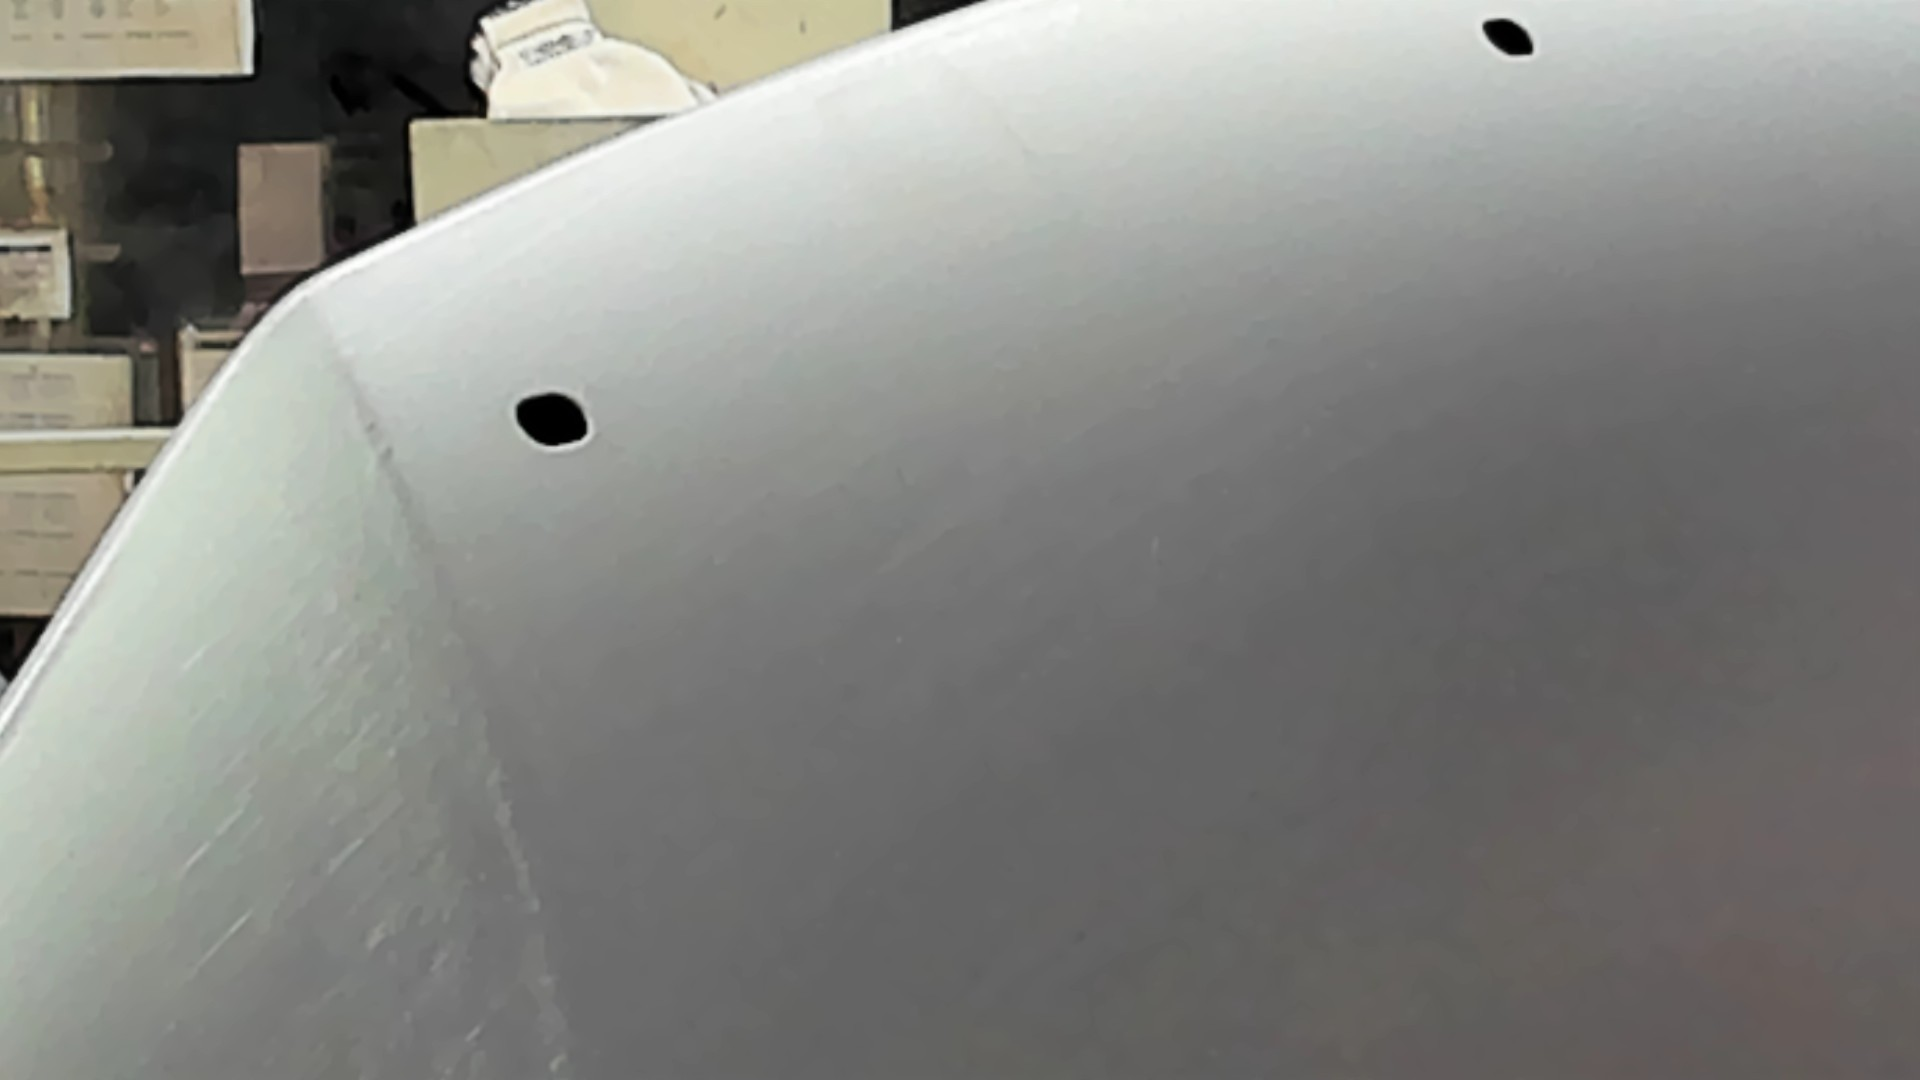amorfo: (509, 386, 597, 455), (1473, 13, 1542, 61)
